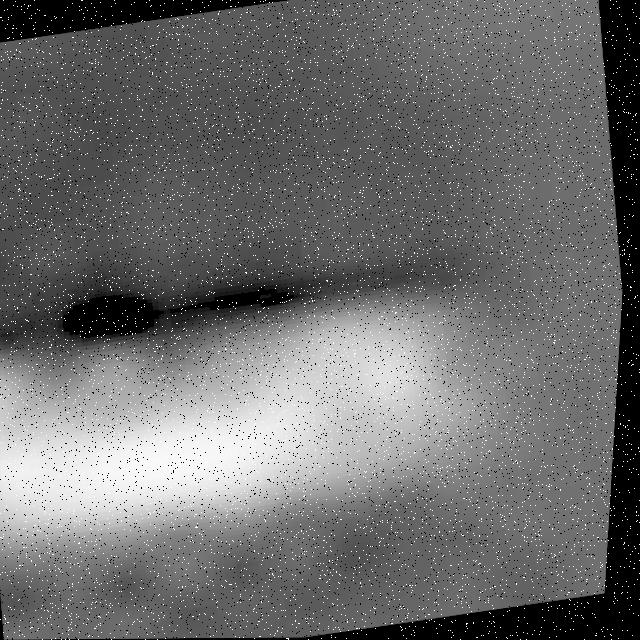person: (1, 214, 566, 561)
